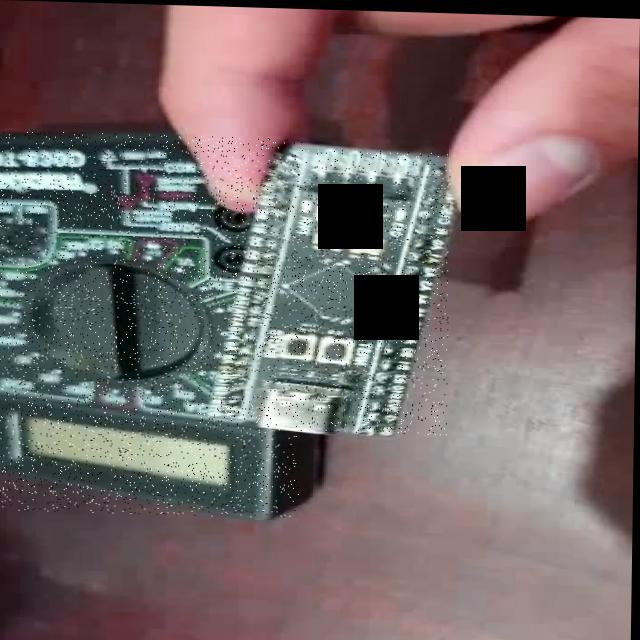multimeter: (0, 130, 304, 517)
stm32: (213, 145, 451, 433)
